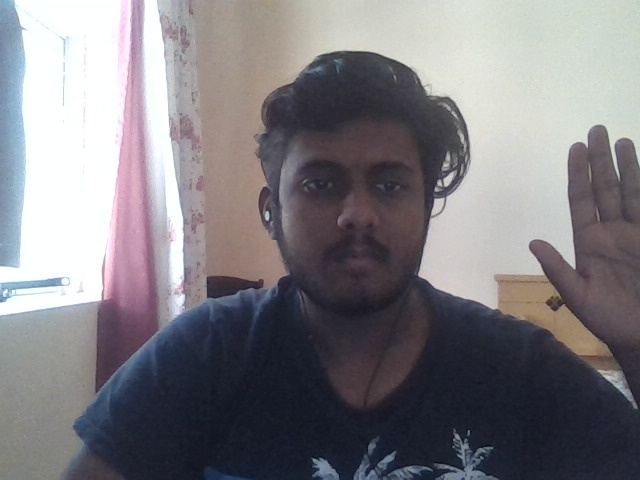thumbsup: (449, 89, 582, 280)
